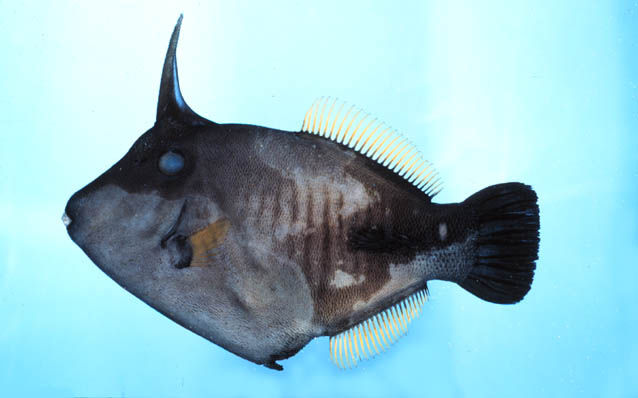fish: (61, 13, 540, 369)
